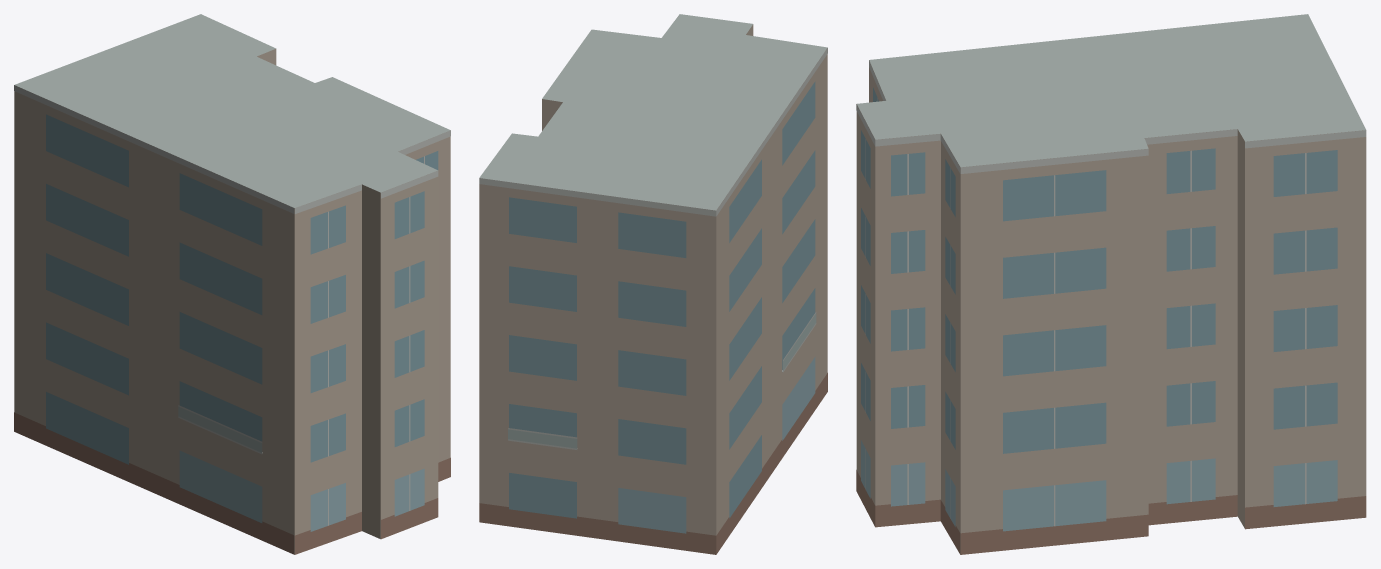
File: survey-upis-32783163.glb
3 renders of one model, left to right at view 1: azimuth 30°, elevation 25°; view 2: azimuth 150°, elevation 25°; view 3: azimuth 270°, elevation 25°, orthographic. The views are drawn at different scales.
Visible parts, largest first — view 1: survey-upis-32783163.tmp; view 2: survey-upis-32783163.tmp; view 3: survey-upis-32783163.tmp.
Part boxes in pixels (box(x1,y1,x2,y2)): survey-upis-32783163.tmp: box(14, 14, 450, 554); survey-upis-32783163.tmp: box(479, 14, 827, 554); survey-upis-32783163.tmp: box(856, 14, 1366, 554).
Bounding box in the file's own units: 11.72 × 13.8 × 16.46.
